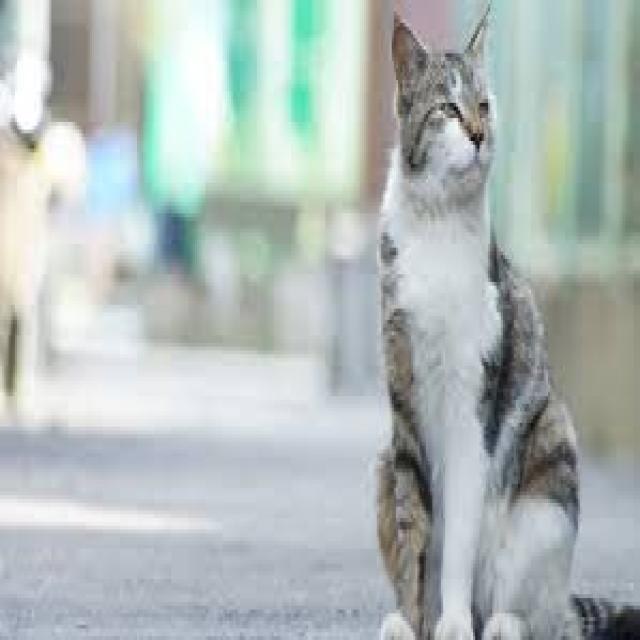cat: (384, 66, 522, 355)
